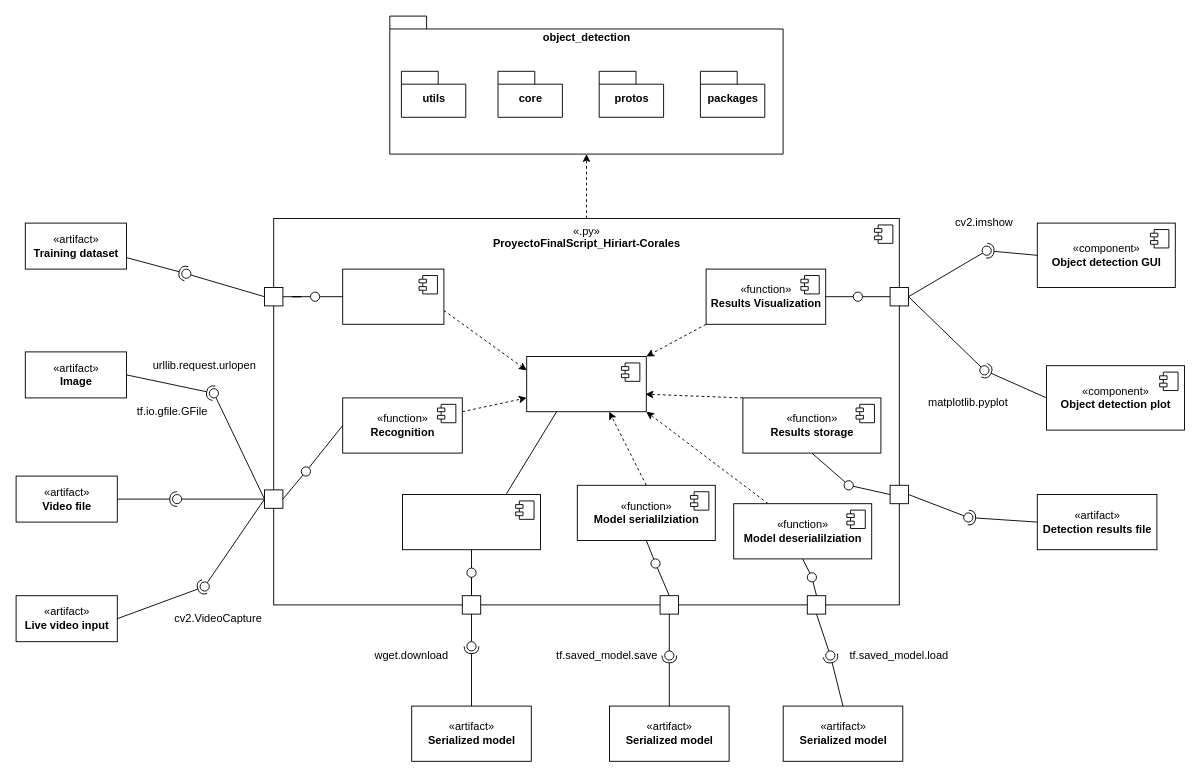
Some shapes in this 1201 by 777 pixel diagram are drawn without their labels. Each missing label, with the centre of its shape:
«function» Hub model download: (x=471, y=522)
«function» Training: (x=393, y=296)
«model» ObjectRecognition: (x=586, y=384)
